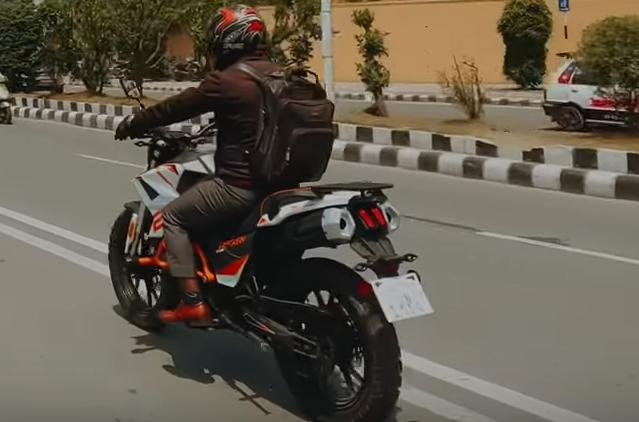bike: (98, 74, 436, 422)
